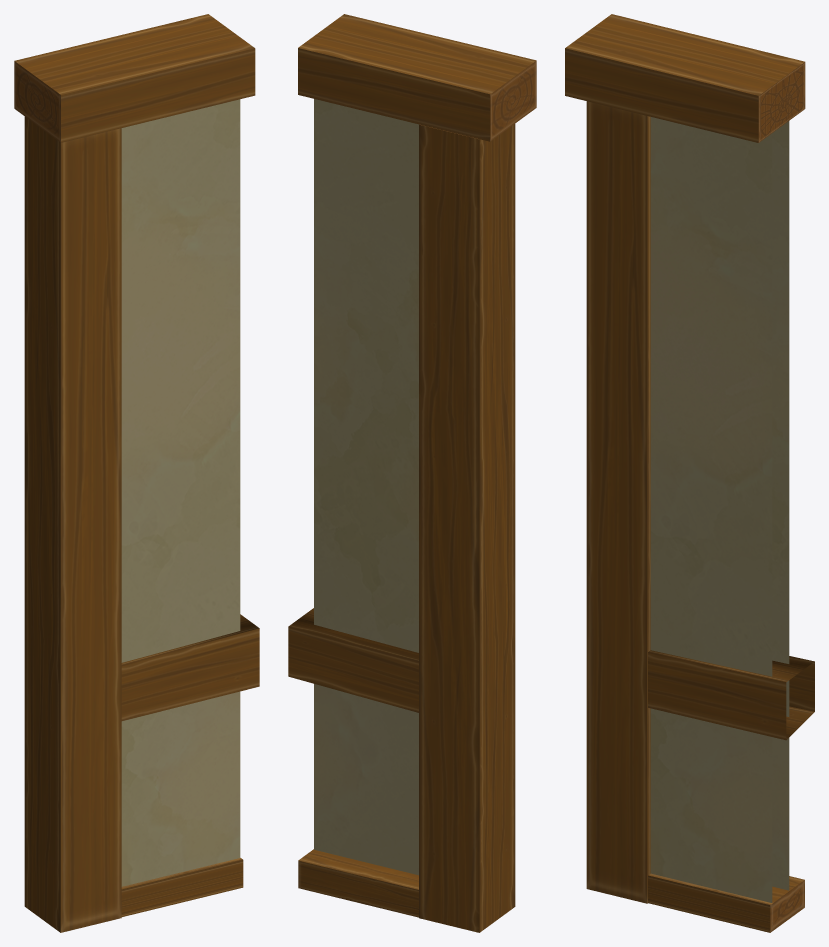
The model's file is SM_House_Corner_02_Front.fbx.
3 renders of one model, left to right at view 1: azimuth 30°, elevation 25°; view 2: azimuth 150°, elevation 25°; view 3: azimuth 330°, elevation 25°, orthographic.
Parts seen in each view (by area): view 1: SM_House_Corner_02_Front; view 2: SM_House_Corner_02_Front; view 3: SM_House_Corner_02_Front.
Part boxes in pixels (<box>): SM_House_Corner_02_Front: <box>14,14,259,932</box>; SM_House_Corner_02_Front: <box>288,14,536,932</box>; SM_House_Corner_02_Front: <box>565,14,814,932</box>.
Size of the model in its own units: 1.04 by 4 by 0.4024.
